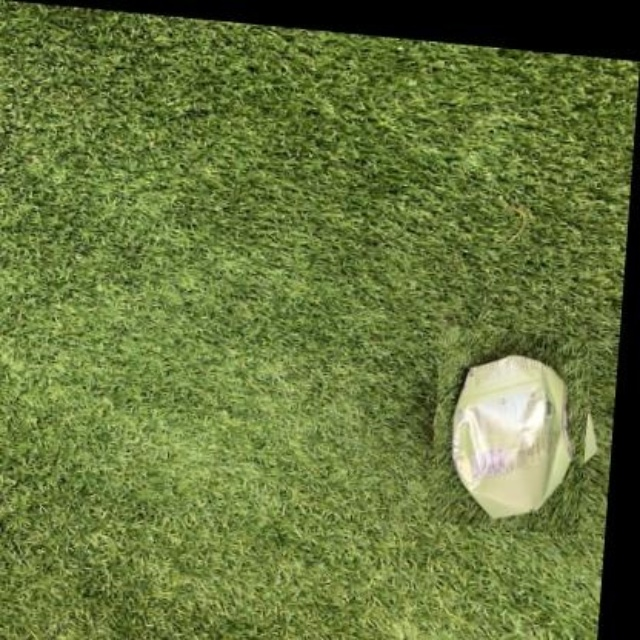trash: (452, 355, 572, 517)
